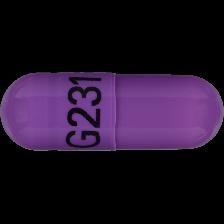68788-9312: (0, 0, 224, 224)
